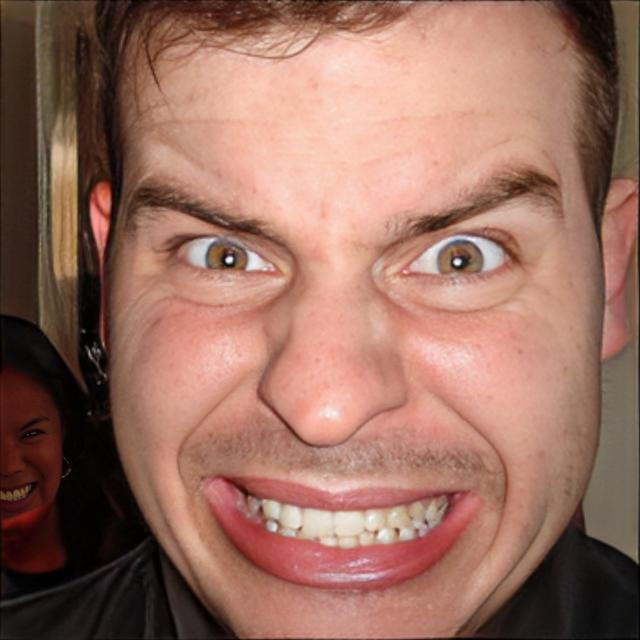disgust: (107, 0, 623, 640), (2, 362, 65, 541)
